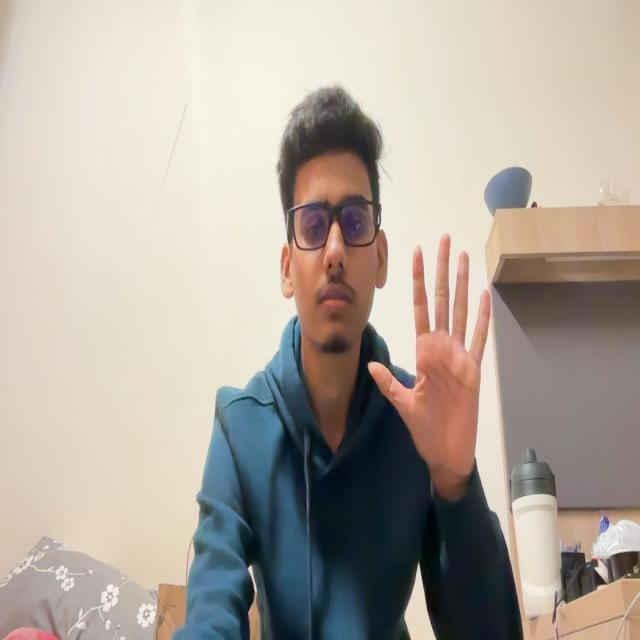Hello: (370, 218, 500, 496)
